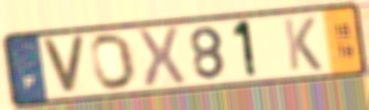1: (228, 18, 259, 81)
8: (188, 25, 228, 82)
K: (281, 15, 324, 73)
O: (89, 31, 139, 93)
V: (39, 35, 87, 96)
X: (134, 25, 189, 91)
